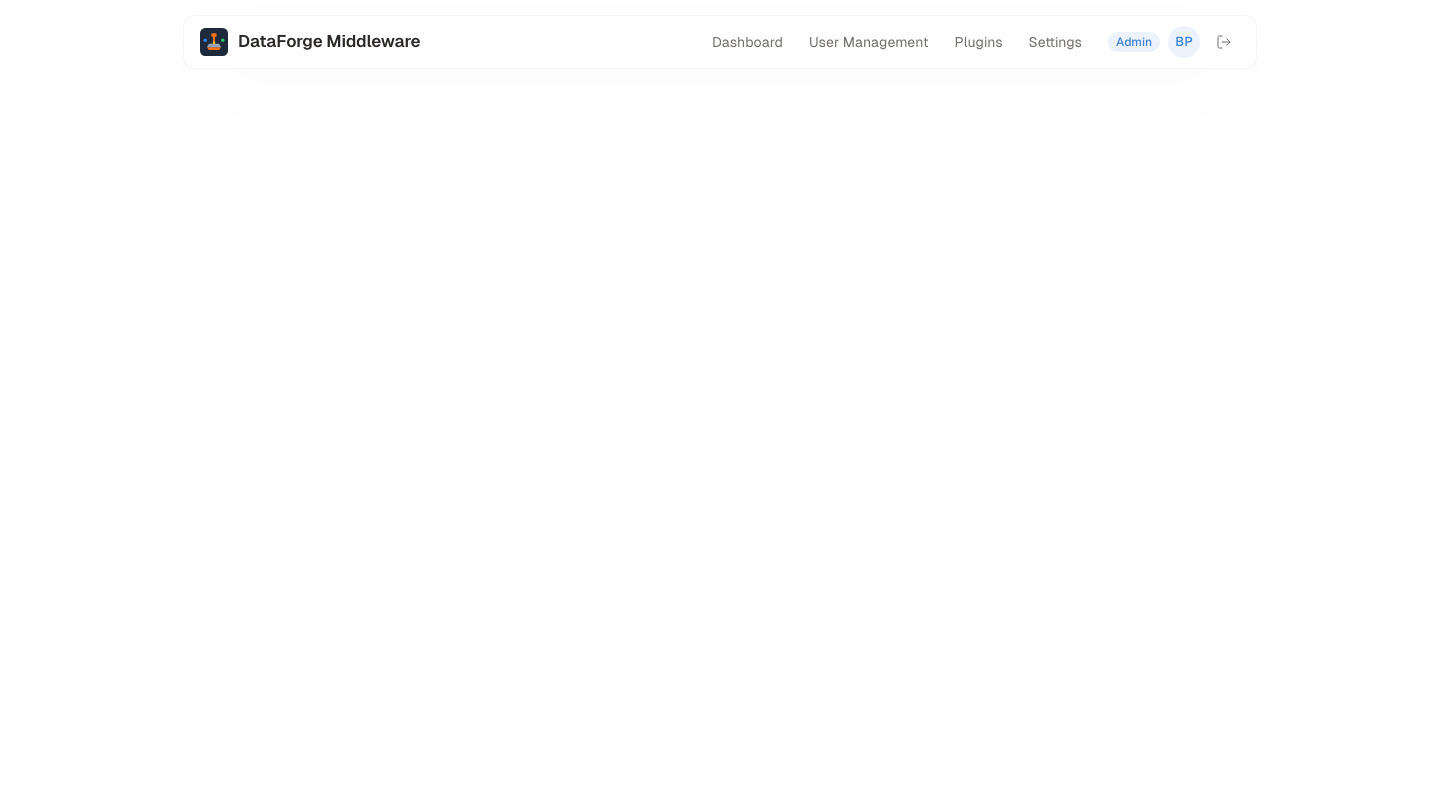
Test case: Header (floating monitoring shell per prototype, T013) › identifies administrators inside the profile
Step 1. Click the button with aria-label "Open profile for Boris Pliss" → (1184, 42), box x1=1168 y1=26 x2=1200 y2=58
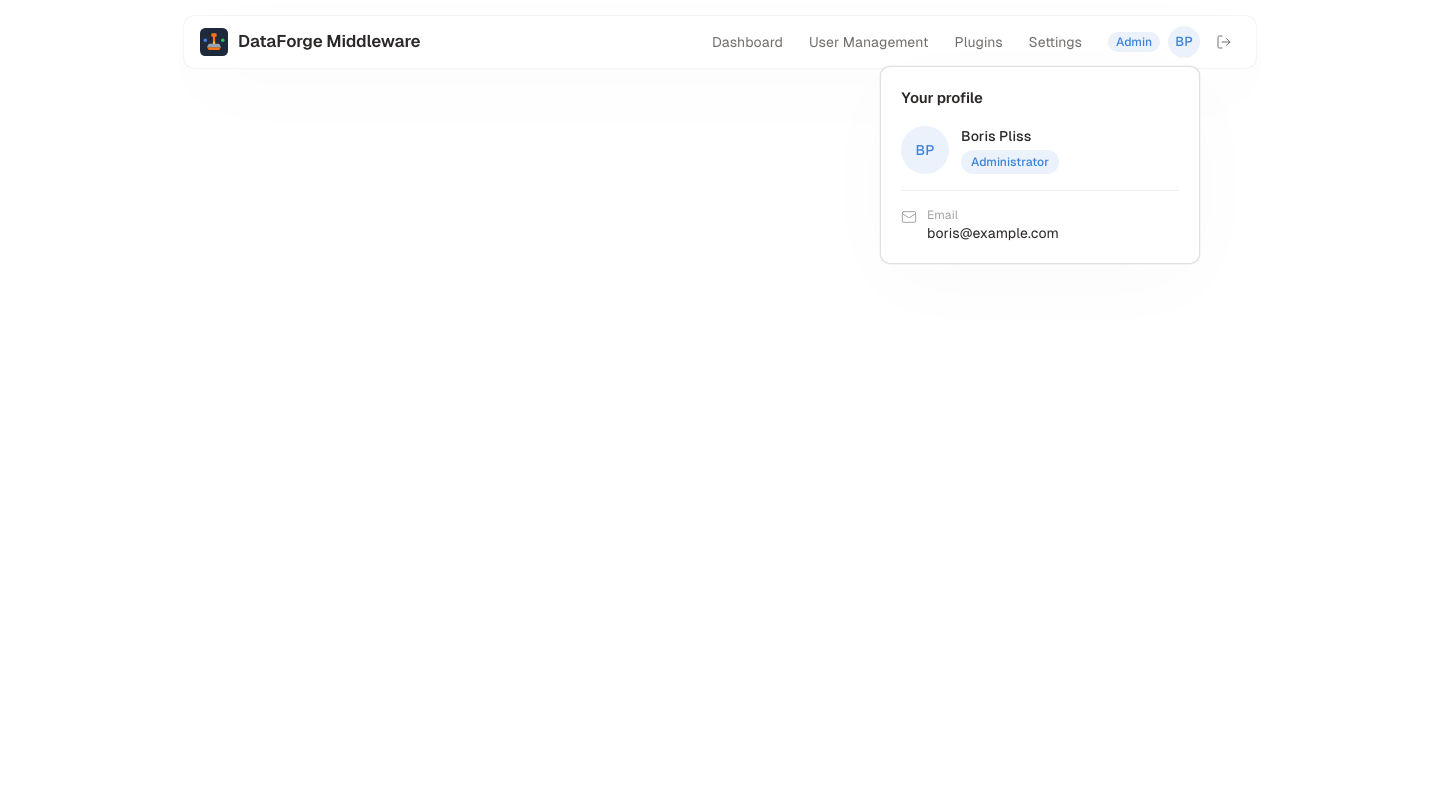
Expected: the text "Administrator" is shown, x1=961 y1=150 x2=1059 y2=174
